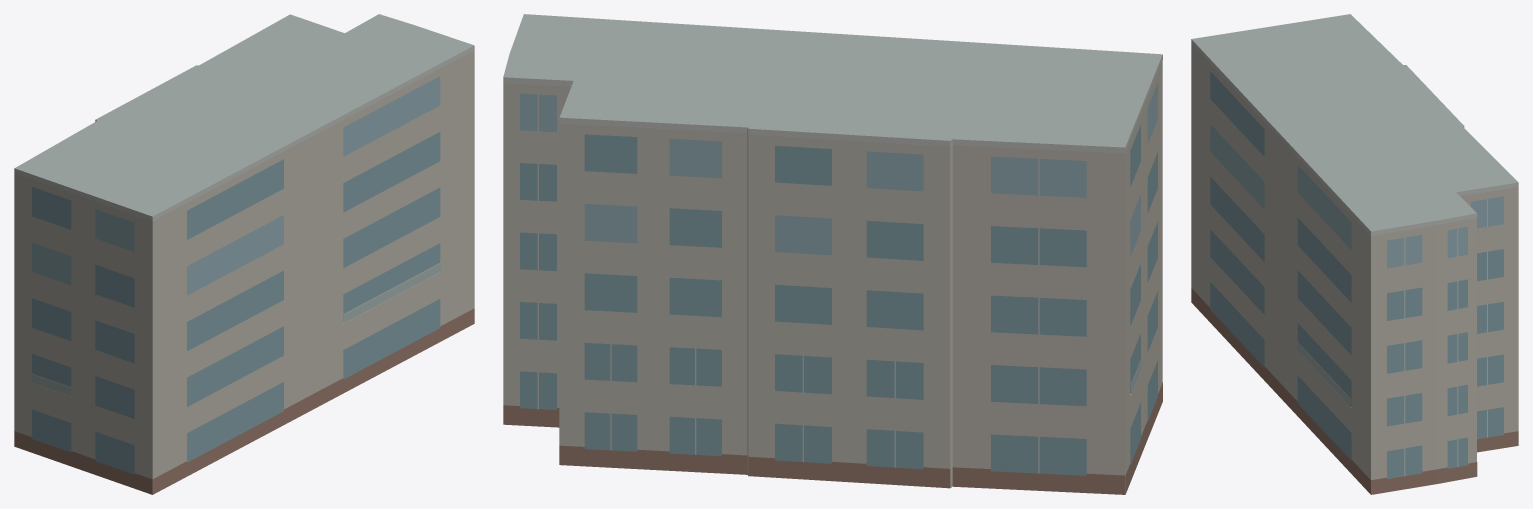
File: survey-upis-32745975.glb
The picture shows the model from 3 angles, left to right: view 1: azimuth 30°, elevation 25°; view 2: azimuth 150°, elevation 25°; view 3: azimuth 270°, elevation 25°; orthographic projection. The views are drawn at different scales.
Parts seen in each view (by area): view 1: survey-upis-32745975.tmp; view 2: survey-upis-32745975.tmp; view 3: survey-upis-32745975.tmp.
Boxes of the visible parts, bbox=[...] form: survey-upis-32745975.tmp: bbox=[14, 14, 474, 494]; survey-upis-32745975.tmp: bbox=[503, 14, 1162, 494]; survey-upis-32745975.tmp: bbox=[1191, 14, 1518, 494].
Bounding box in the file's own units: 25.52 × 14.4 × 16.22.
